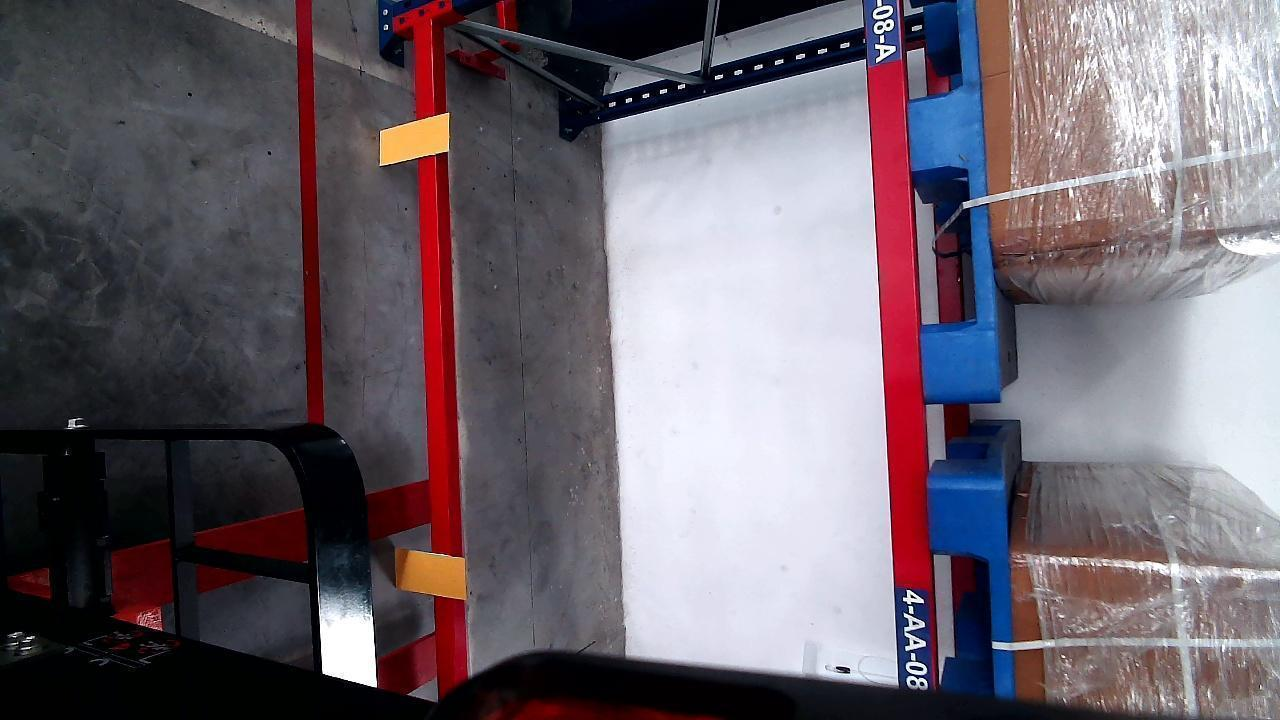red_line: (297, 0, 324, 435)
